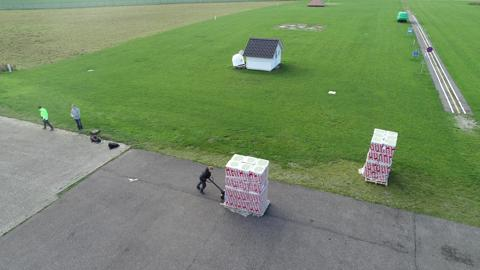RockwoolPallet: (224, 152, 270, 217)
